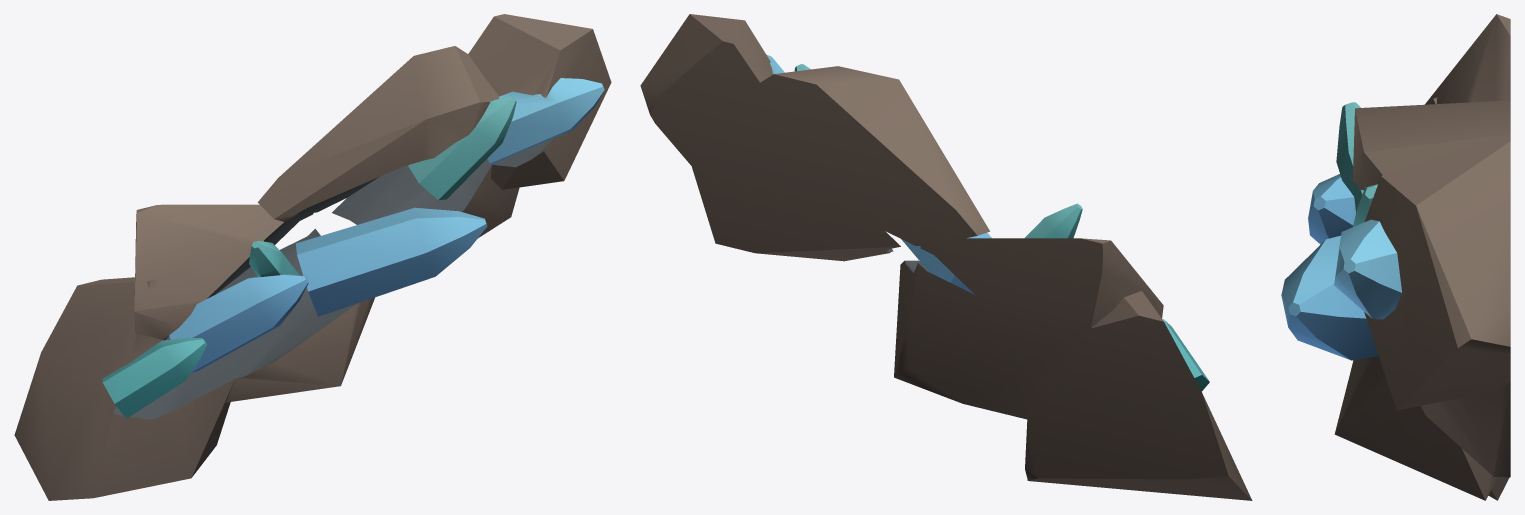
The model's file is ore_vein_crystal_seam.glb.
3 views of the same model, side by side, from view 1: azimuth 30°, elevation 25°; view 2: azimuth 150°, elevation 25°; view 3: azimuth 270°, elevation 25° (orthographic). The views are drawn at different scales.
Visible parts, largest first — view 1: ore_vein_crystal_seam; view 2: ore_vein_crystal_seam; view 3: ore_vein_crystal_seam.
Part boxes in pixels (bbox=[...]): ore_vein_crystal_seam: bbox=[14, 14, 611, 500]; ore_vein_crystal_seam: bbox=[640, 14, 1252, 500]; ore_vein_crystal_seam: bbox=[1281, 14, 1510, 500].
Bounding box in the file's own units: 3.13 × 1.84 × 0.6403.
Materials: 1 (1 with a texture image).
